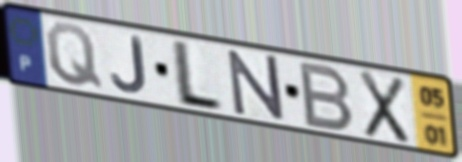B: (298, 59, 357, 134)
J: (109, 33, 149, 96)
L: (172, 38, 226, 114)
N: (225, 48, 288, 123)
Q: (43, 21, 106, 92)
X: (357, 67, 411, 147)
